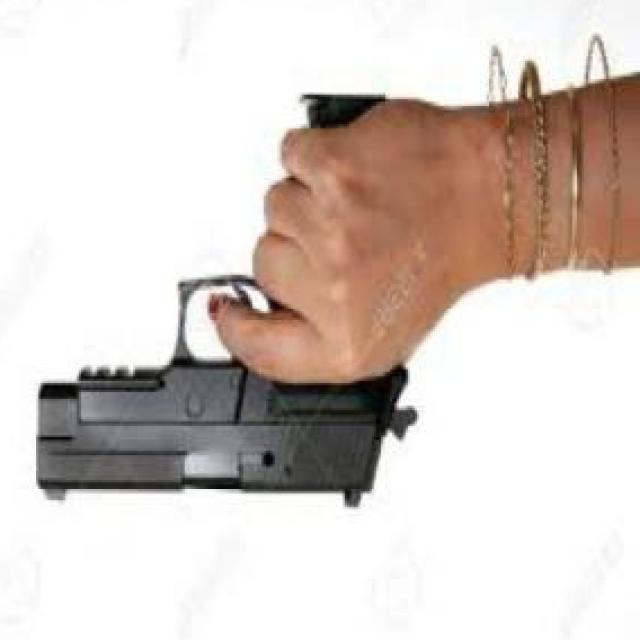pistol: (24, 90, 412, 512)
